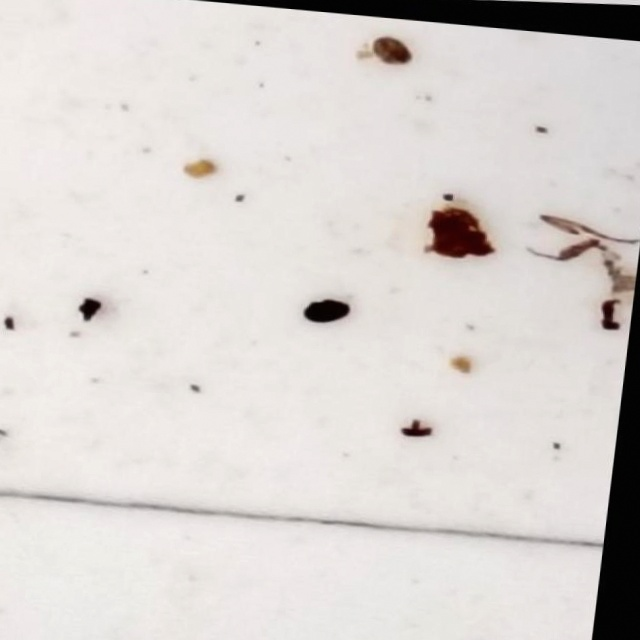varroa: (304, 296, 358, 327)
